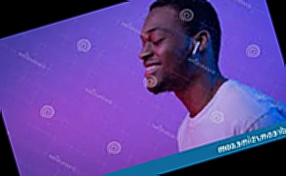earphone: (190, 29, 214, 54)
